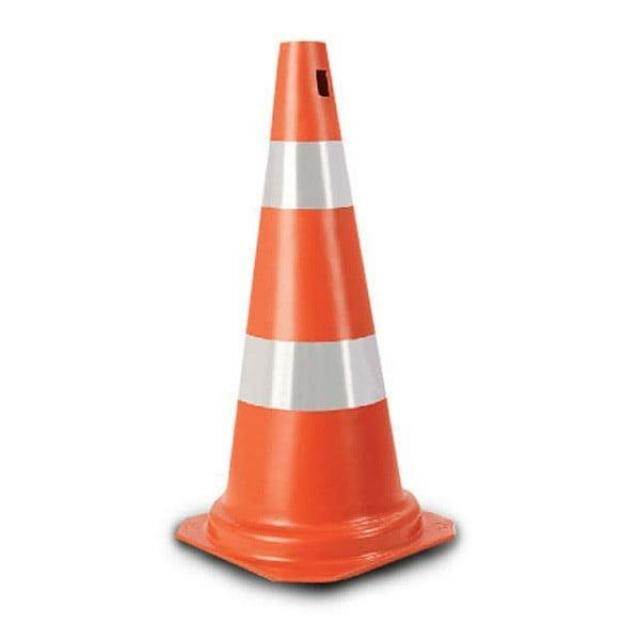traffic cone: (172, 41, 457, 586)
